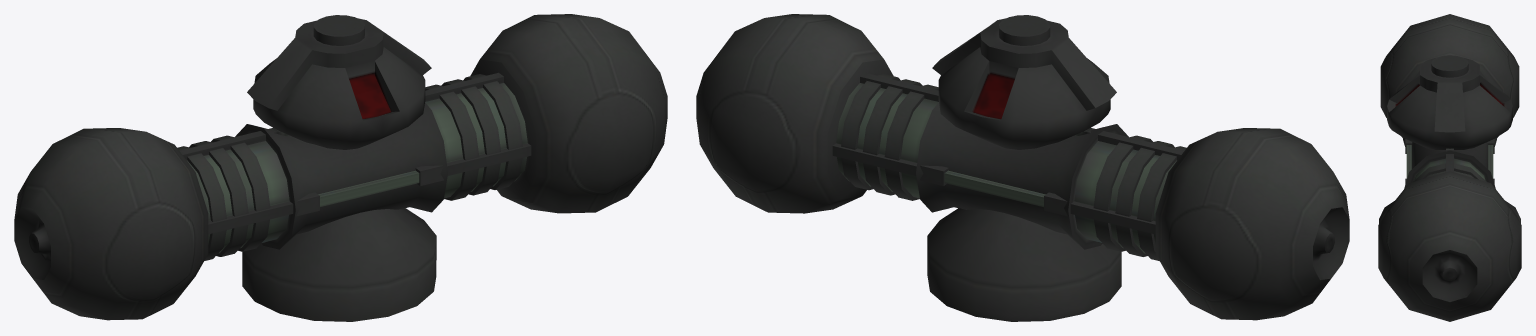
File: naquadah_generator.obj
The picture shows the model from 3 angles, left to right: view 1: azimuth 30°, elevation 25°; view 2: azimuth 150°, elevation 25°; view 3: azimuth 270°, elevation 25°; orthographic projection. The views are drawn at different scales.
Visible parts, largest first — view 1: naquadah_generator; view 2: naquadah_generator; view 3: naquadah_generator.
Boxes of the visible parts, x1,y1,x2,y2 form: naquadah_generator: [14, 14, 667, 321]; naquadah_generator: [696, 14, 1349, 321]; naquadah_generator: [1378, 14, 1521, 321].
Bounding box in the file's own units: 0.9544 × 0.3777 × 0.266.
